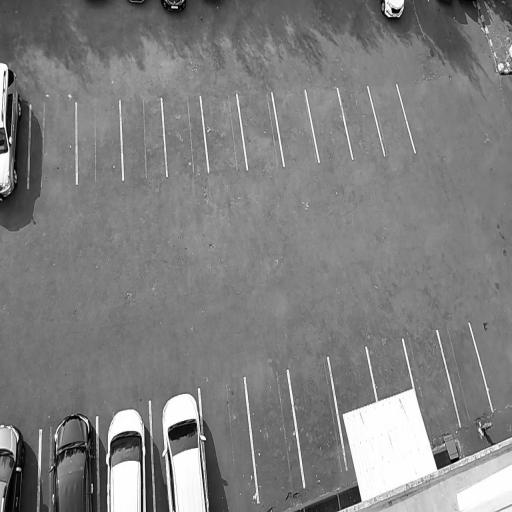Car: (157, 386, 213, 512), (47, 410, 96, 512), (104, 408, 148, 512), (0, 61, 25, 207), (0, 420, 26, 512), (379, 0, 407, 20)
Space Available: (244, 369, 303, 501), (200, 376, 258, 503), (290, 358, 345, 484), (404, 330, 459, 435), (438, 321, 491, 426), (29, 103, 77, 189), (121, 98, 167, 180), (77, 101, 122, 184), (163, 95, 208, 176), (237, 91, 283, 170), (201, 93, 246, 172), (306, 87, 353, 162), (338, 86, 383, 158), (273, 90, 317, 162), (330, 347, 376, 415), (369, 85, 415, 153), (368, 335, 413, 399)
